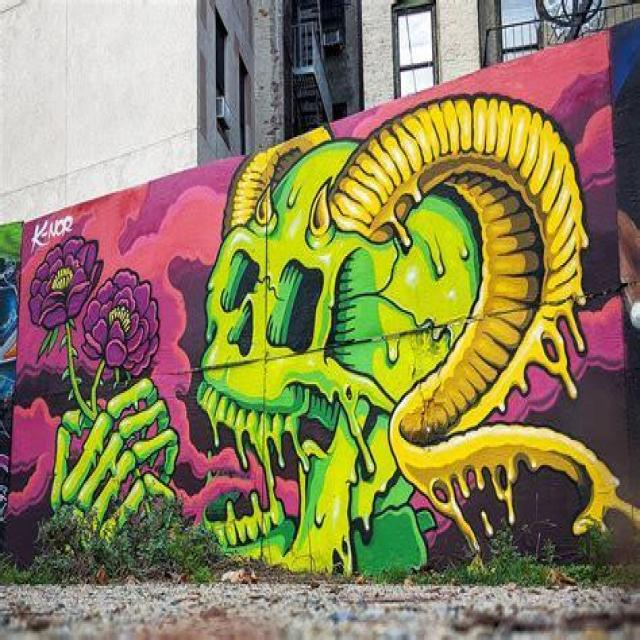nonspitting: (31, 216, 74, 253)
spitting: (198, 91, 639, 574), (28, 234, 182, 540)
